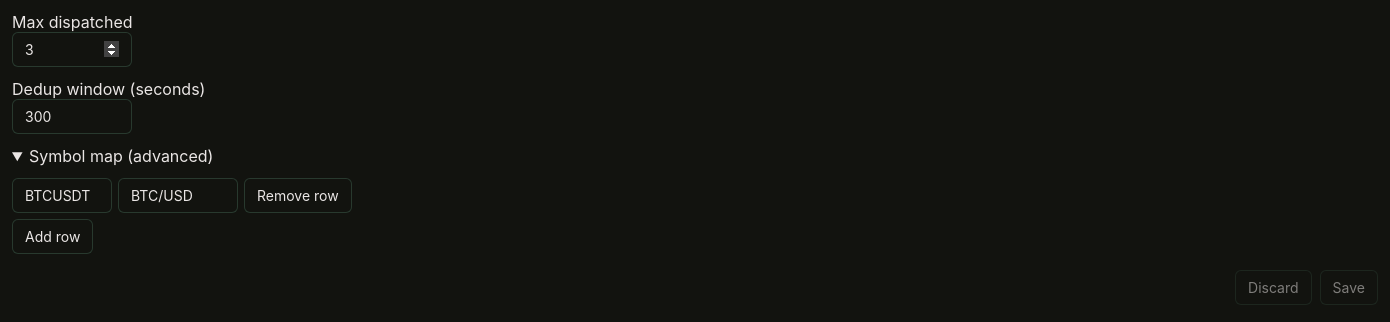
Scenario: GlobalConfigForm › Discard resets form to config
Replace the text in the number field labelled "Max dispatched" with "5" at coordinates (72, 50), box [12, 32, 132, 67]
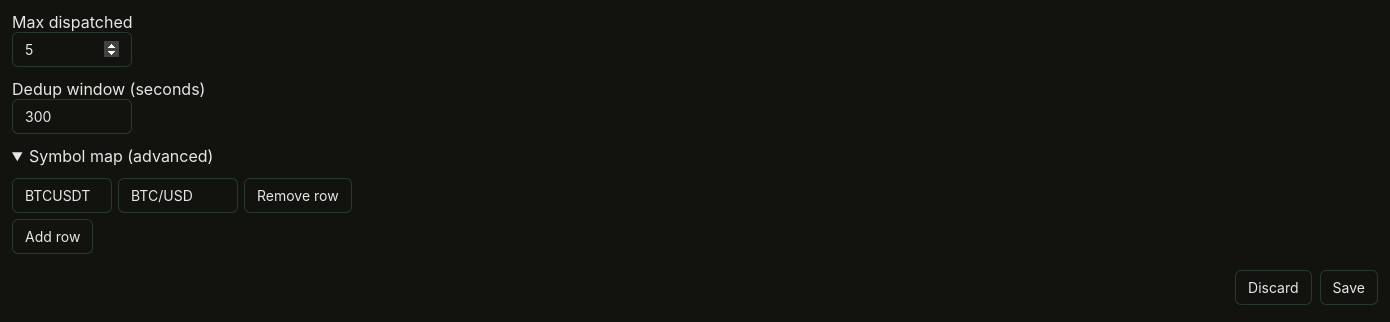
Click the button "Discard".
click(1273, 288)  # box [1235, 270, 1312, 305]
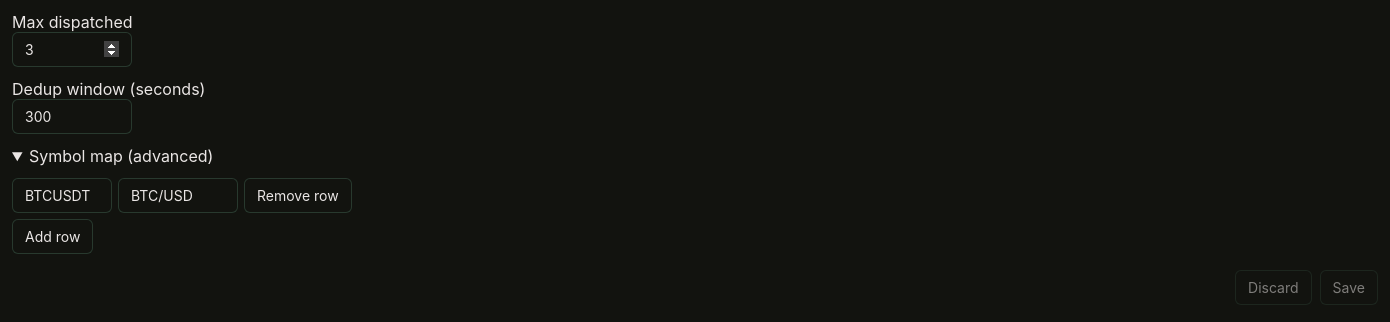
Expected: the number field labelled "Max dispatched" holds "3", [12, 32, 132, 67]
